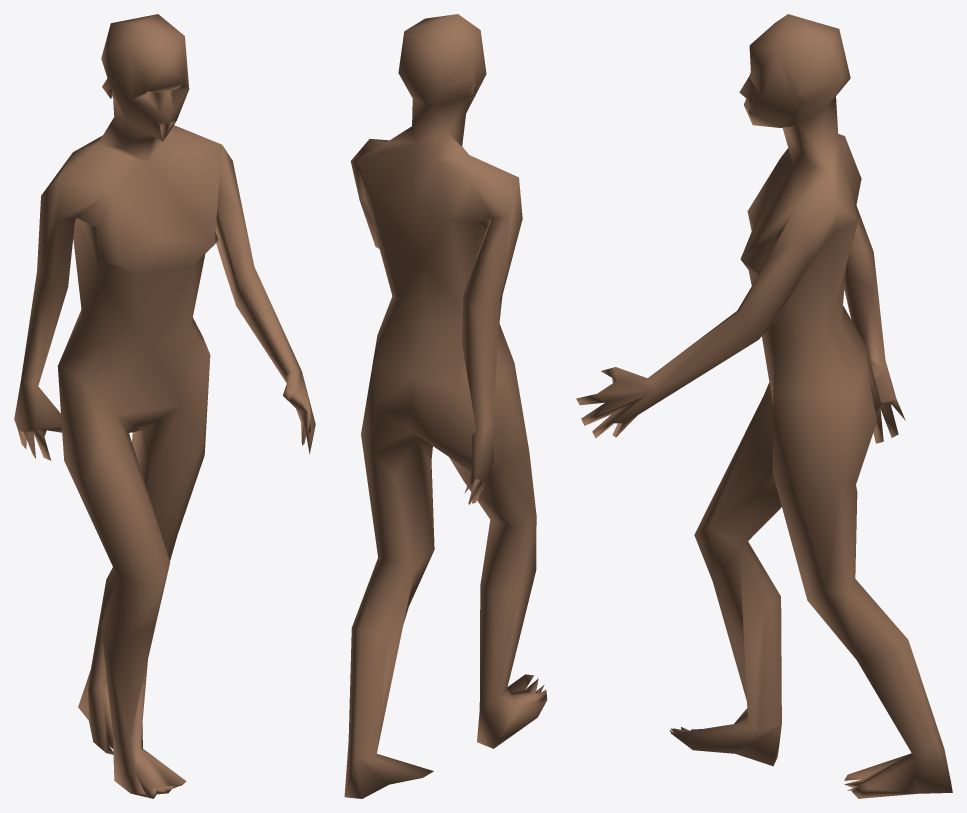
File: obs_000039.obj
The picture shows the model from 3 angles, left to right: view 1: azimuth 30°, elevation 25°; view 2: azimuth 150°, elevation 25°; view 3: azimuth 270°, elevation 25°; orthographic projection. The views are drawn at different scales.
Parts seen in each view (by area): view 1: 1-base; view 2: 1-base; view 3: 1-base.
Part boxes in pixels (left/top/right/bottom): 1-base: left=14, top=14, right=315, bottom=798; 1-base: left=344, top=14, right=547, bottom=798; 1-base: left=576, top=14, right=952, bottom=798.
Size of the model in its own units: 0.3564 by 1.45 by 0.6399.
